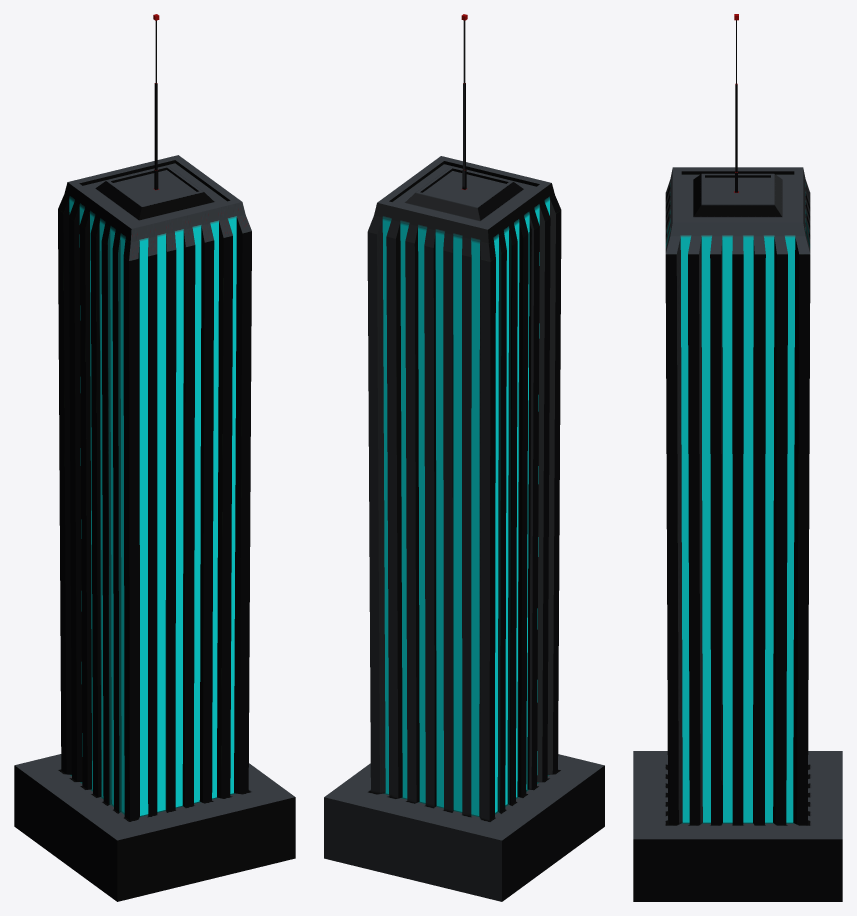
File: moderntower.obj
3 renders of one model, left to right at view 1: azimuth 30°, elevation 25°; view 2: azimuth 150°, elevation 25°; view 3: azimuth 270°, elevation 25°, orthographic.
Visible parts, largest first — view 1: Cube.045_Cube.034; view 2: Cube.045_Cube.034; view 3: Cube.045_Cube.034.
Part boxes in pixels (bbox=[...]): Cube.045_Cube.034: bbox=[14, 14, 295, 901]; Cube.045_Cube.034: bbox=[324, 14, 604, 901]; Cube.045_Cube.034: bbox=[633, 14, 842, 901].
Bounding box in the file's own units: 1.19 × 5.3 × 1.19.
Materials: 3 (2 with a texture image).
